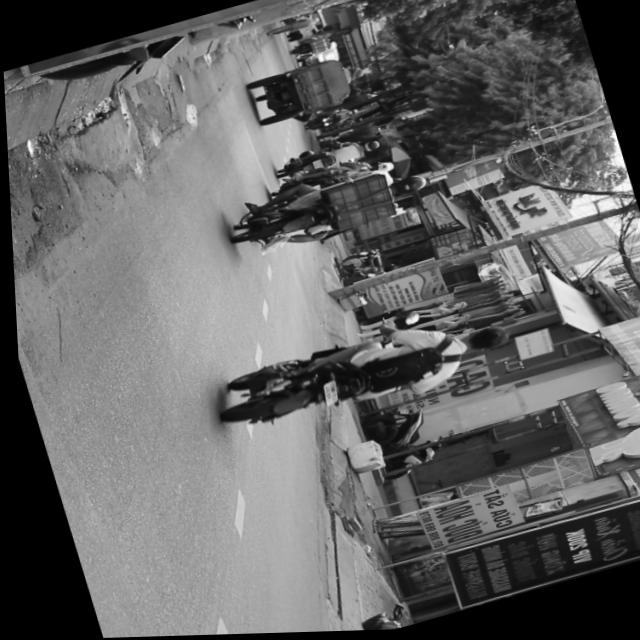helmet: (393, 174, 429, 200)
licenseplate: (202, 297, 518, 447), (218, 152, 438, 267)
motorcyclist: (457, 324, 509, 359)
